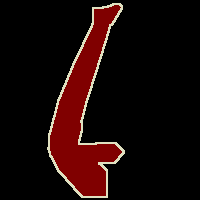tie: (48, 3, 124, 197)
